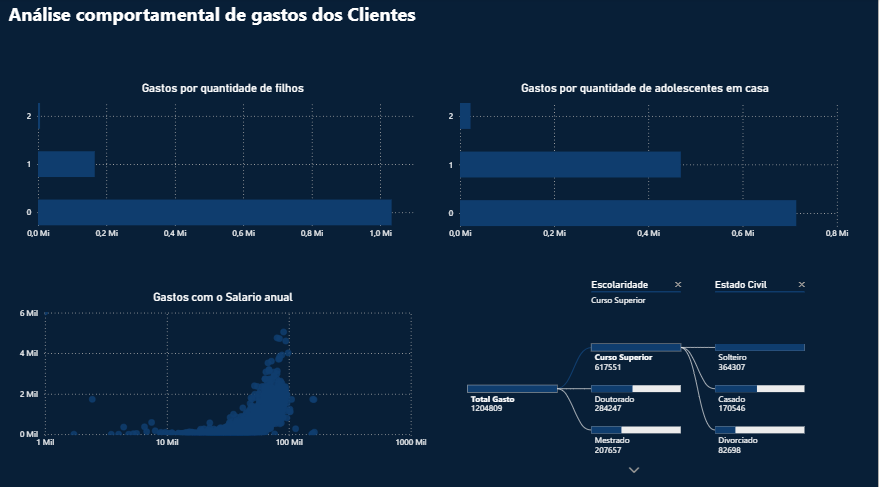

The dashboard page shown, as its layout file describes it:
{"tool":"powerbi","page":{"name":"Visão comportamental de gasto","canvas":[1280,720],"ordinal":1},"visuals":[{"type":"textbox","box":[10.2,0,688,78.5],"z":0},{"type":"scatterChart","title":"Gastos com o Salario anual","fields":{"X":["dados marketing.Salario Anual"],"Y":["dados marketing.Total Gasto"]},"box":[26.2,424.7,602.2,240],"z":1000},{"type":"barChart","title":"Gastos por quantidade de filhos","fields":{"Category":["dados marketing.Filhos em Casa"],"Y":["dados marketing.Total Gasto"]},"box":[26.2,120.3,601.6,238.9],"z":2000},{"type":"barChart","title":"Gastos por quantidade de adolescentes em casa","fields":{"Category":["dados marketing.Adolescentes em Casa"],"Y":["dados marketing.Total Gasto"]},"box":[640,120.7,602.2,240],"z":3000},{"type":"decompositionTreeVisual","fields":{"Analyze":["dados marketing.Total Gasto"],"ExplainBy":["dados marketing.Escolaridade","dados marketing.Estado Civil"]},"box":[653.1,391.3,610.9,306.9],"z":4000}]}

Visuals, with their boxes in screenshot pixels (x1, y1, x2, y2), scaled from the page's 1280x720 canvas onto the 880x487 screenshot:
textbox: (x1=7, y1=0, x2=480, y2=53)
"Gastos com o Salario anual" scatterChart: (x1=18, y1=287, x2=432, y2=450)
"Gastos por quantidade de filhos" barChart: (x1=18, y1=81, x2=432, y2=243)
"Gastos por quantidade de adolescentes em casa" barChart: (x1=440, y1=82, x2=854, y2=244)
decompositionTreeVisual - dados marketing.Total Gasto x dados marketing.Escolaridade: (x1=449, y1=265, x2=869, y2=472)
